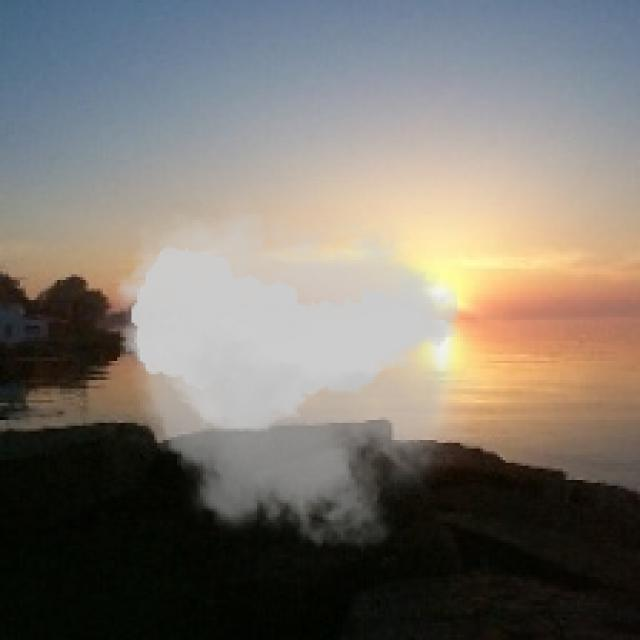Smoke: (106, 182, 483, 568)
